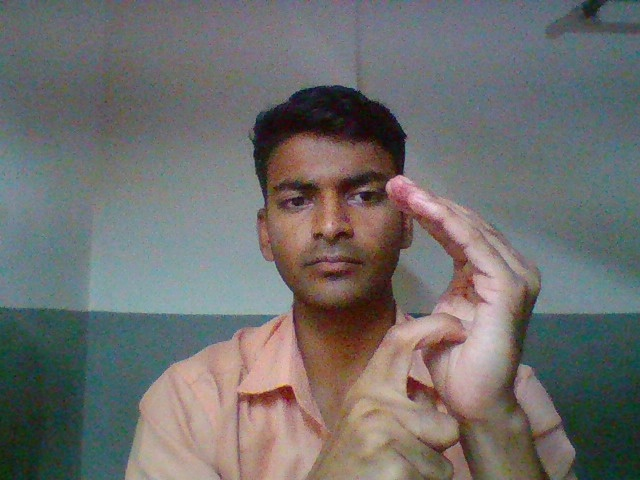G: (301, 168, 552, 480)
